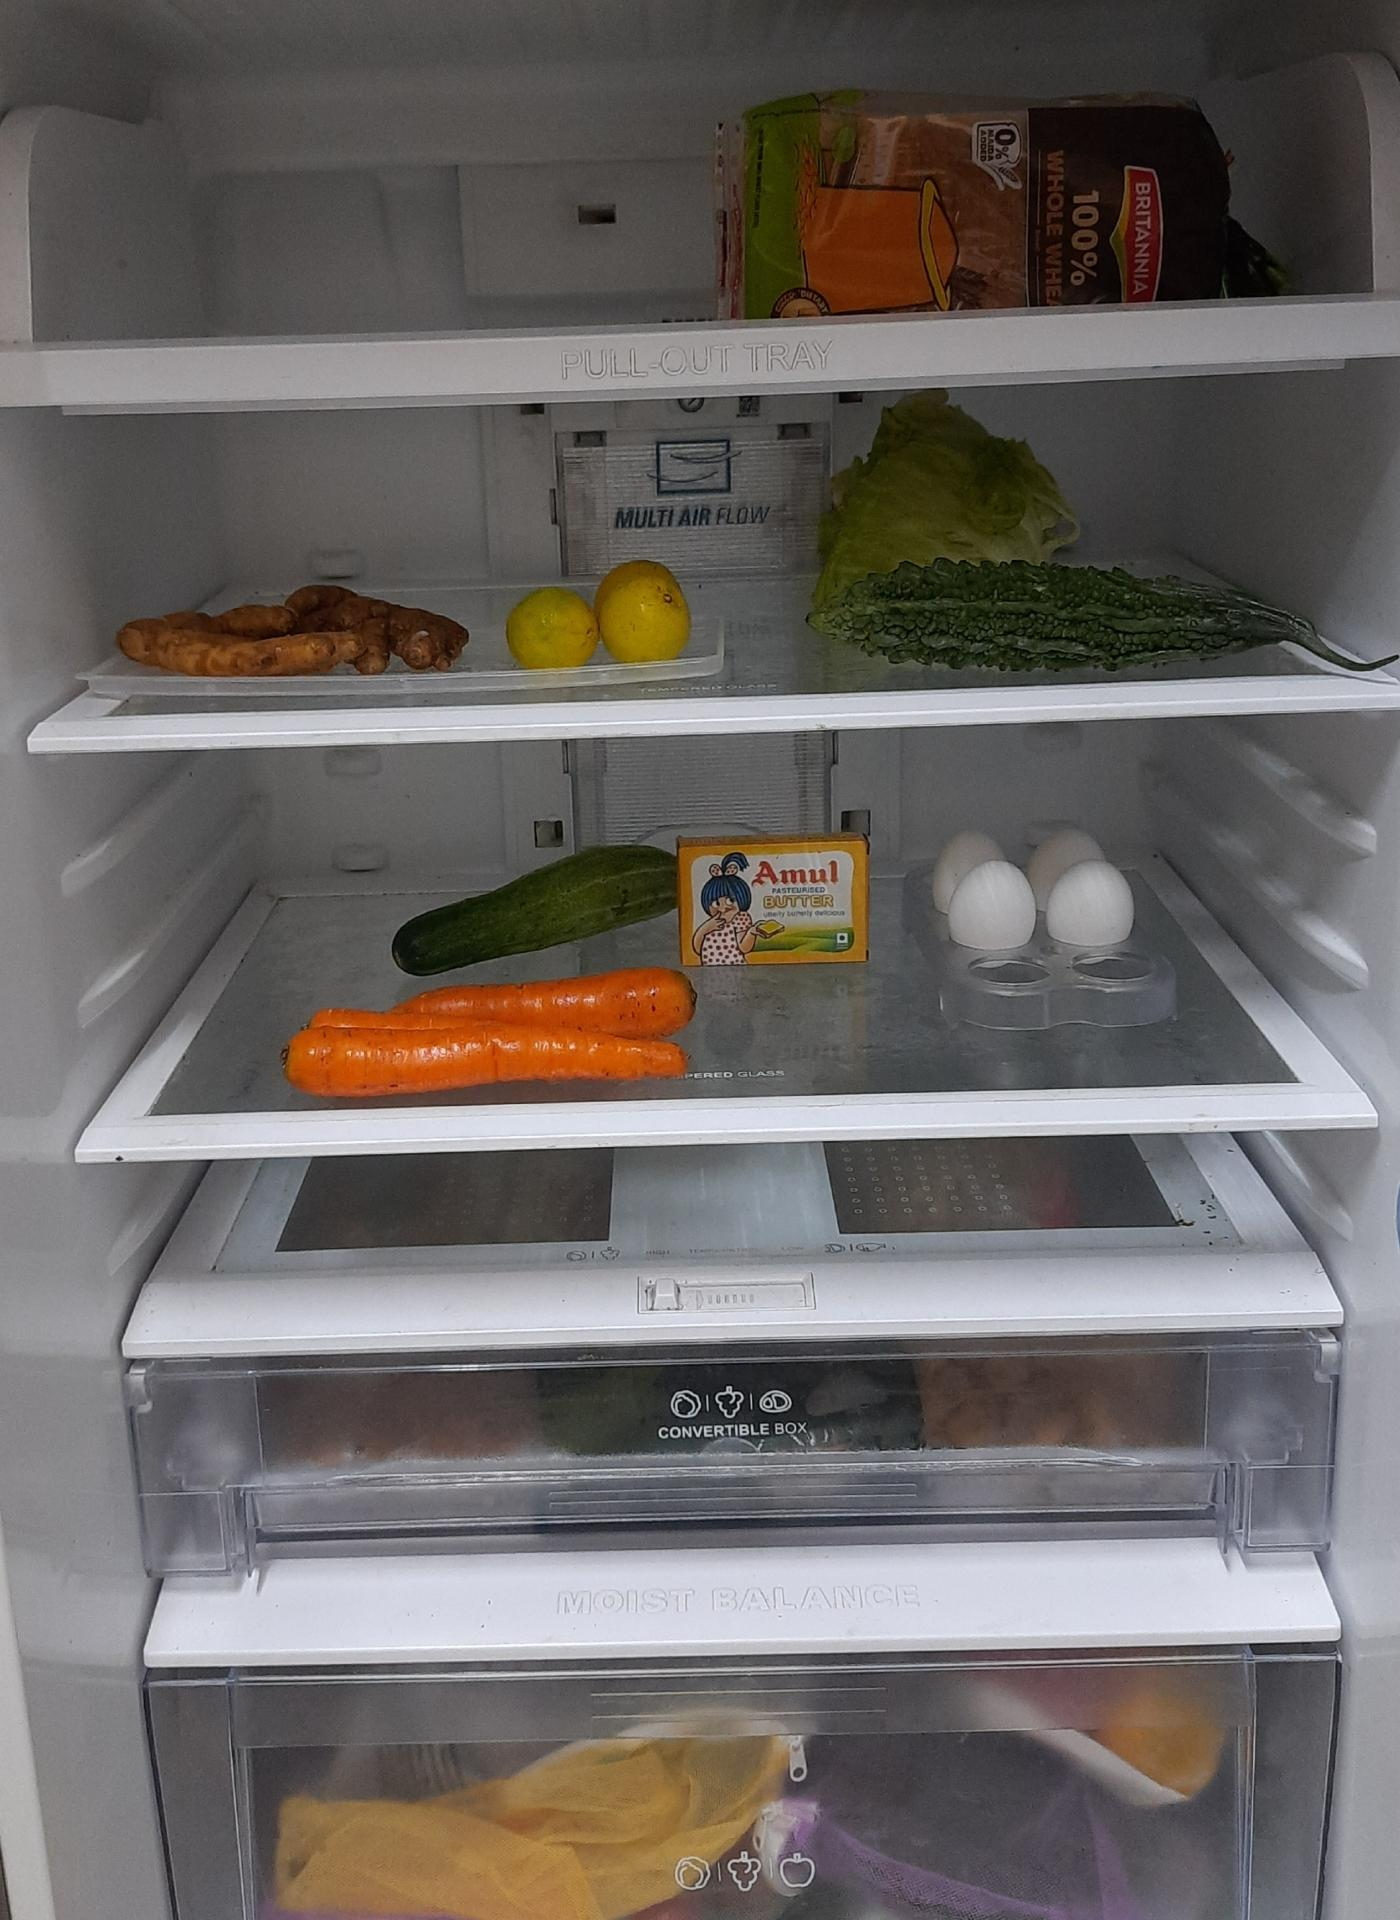bitter gourd: (823, 565, 1319, 668)
bread: (720, 83, 1278, 309)
butter: (680, 832, 874, 964)
carrots: (283, 964, 704, 1093)
cucumber: (389, 838, 684, 978)
egg: (935, 826, 1135, 957)
ginger: (112, 569, 464, 663)
lemon: (508, 563, 696, 672)
lettuce: (823, 400, 1082, 595)
